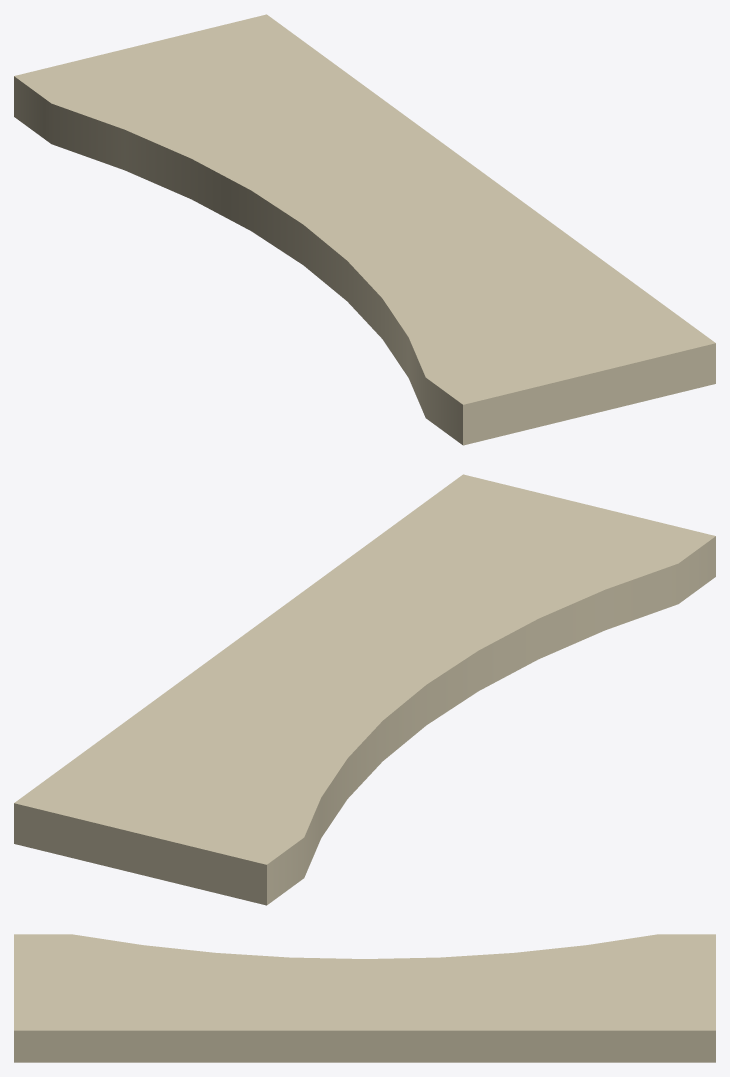
Rendered from evp-wiper.glb.
3 views of the same model, one above another, from view 1: azimuth 30°, elevation 25°; view 2: azimuth 150°, elevation 25°; view 3: azimuth 270°, elevation 25° (orthographic). The views are drawn at different scales.
Parts seen in each view (by area): view 1: world; view 2: world; view 3: world.
Boxes of the visible parts, <box> form: world: <box>14,14,715,445</box>; world: <box>14,474,715,905</box>; world: <box>14,934,715,1062</box>.
Bounding box in the file's own units: 0.00195 × 0.0003 × 0.006.
